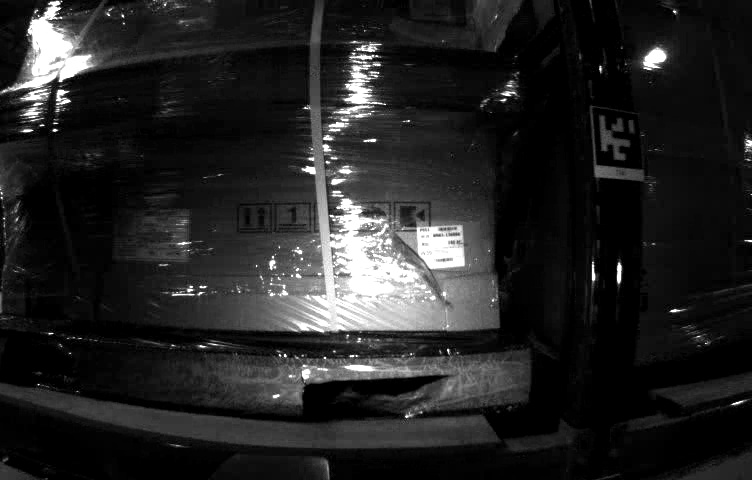True Barcode: (414, 225, 464, 267)
